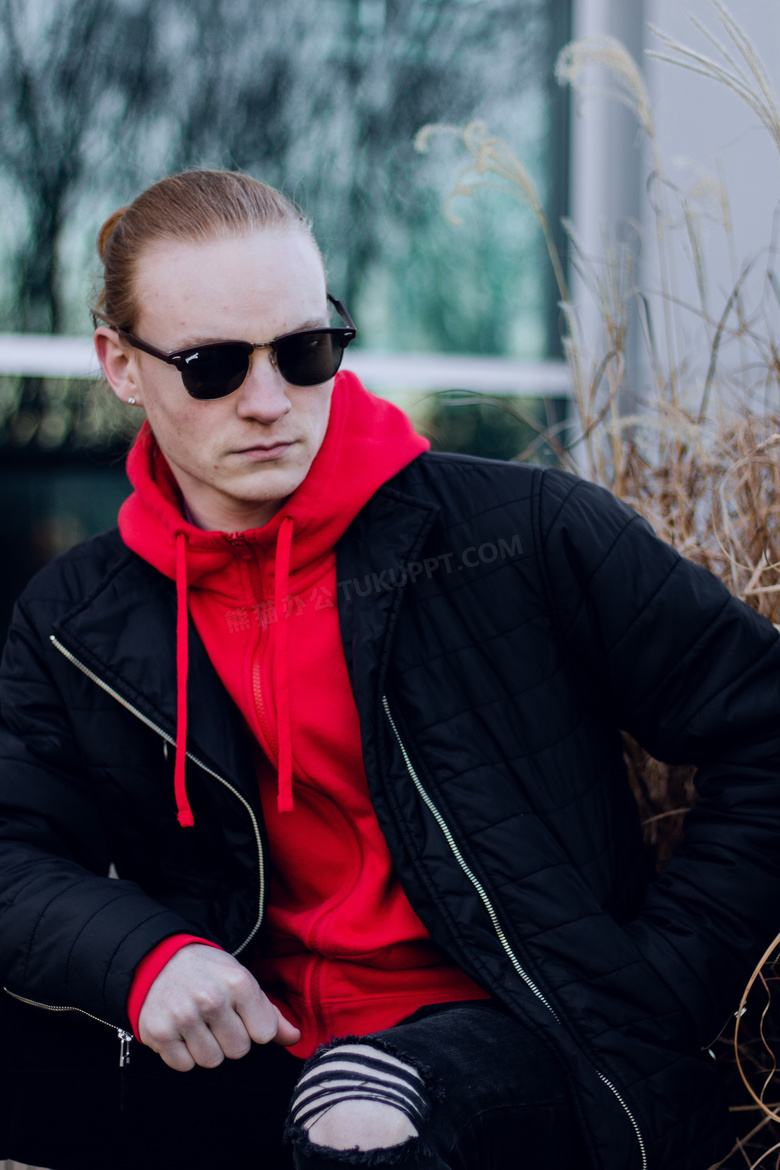person: (108, 179, 693, 1067)
